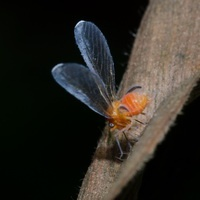insect: (52, 20, 148, 129)
